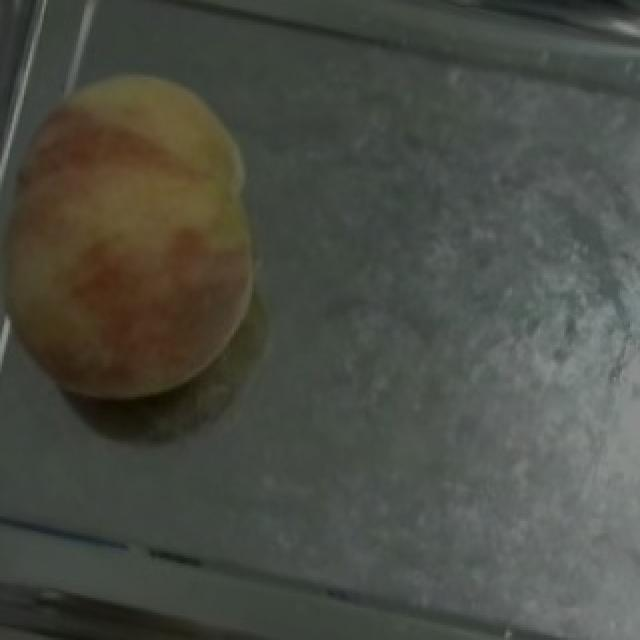Fruit: (0, 39, 298, 374)
